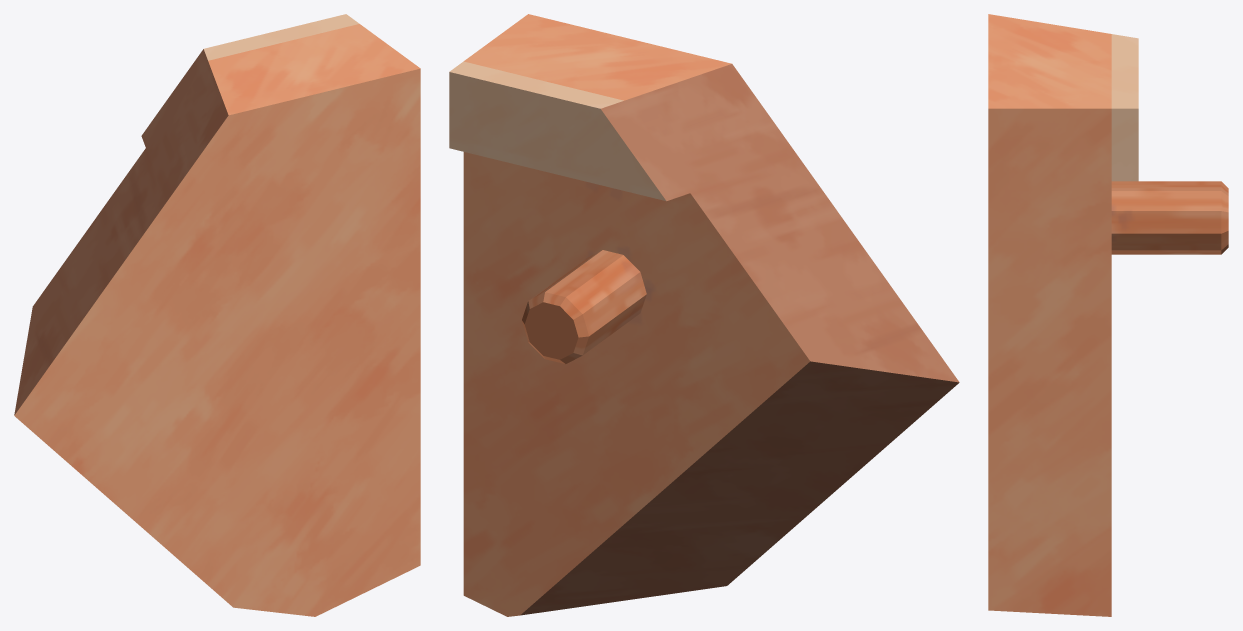
The model's file is wall2_upper_s10.fbx.
3 views of the same model, side by side, from view 1: azimuth 30°, elevation 25°; view 2: azimuth 150°, elevation 25°; view 3: azimuth 270°, elevation 25° (orthographic). The views are drawn at different scales.
Parts seen in each view (by area): view 1: wall2_upper_s10; view 2: wall2_upper_s10; view 3: wall2_upper_s10.
Part boxes in pixels (box(x1,y1,x2,y2)): wall2_upper_s10: box(14, 14, 420, 616); wall2_upper_s10: box(449, 14, 959, 616); wall2_upper_s10: box(988, 14, 1228, 616).
Bounding box in the file's own units: 3.84 × 4.72 × 1.95.
